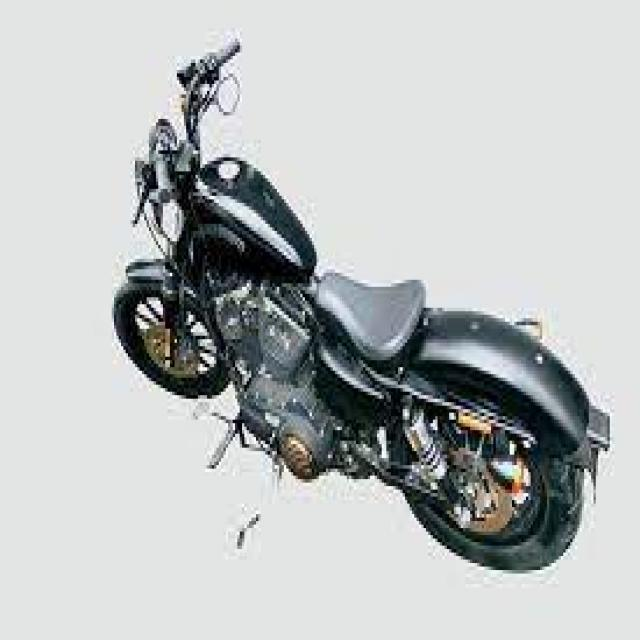Bike: (112, 37, 590, 570)
